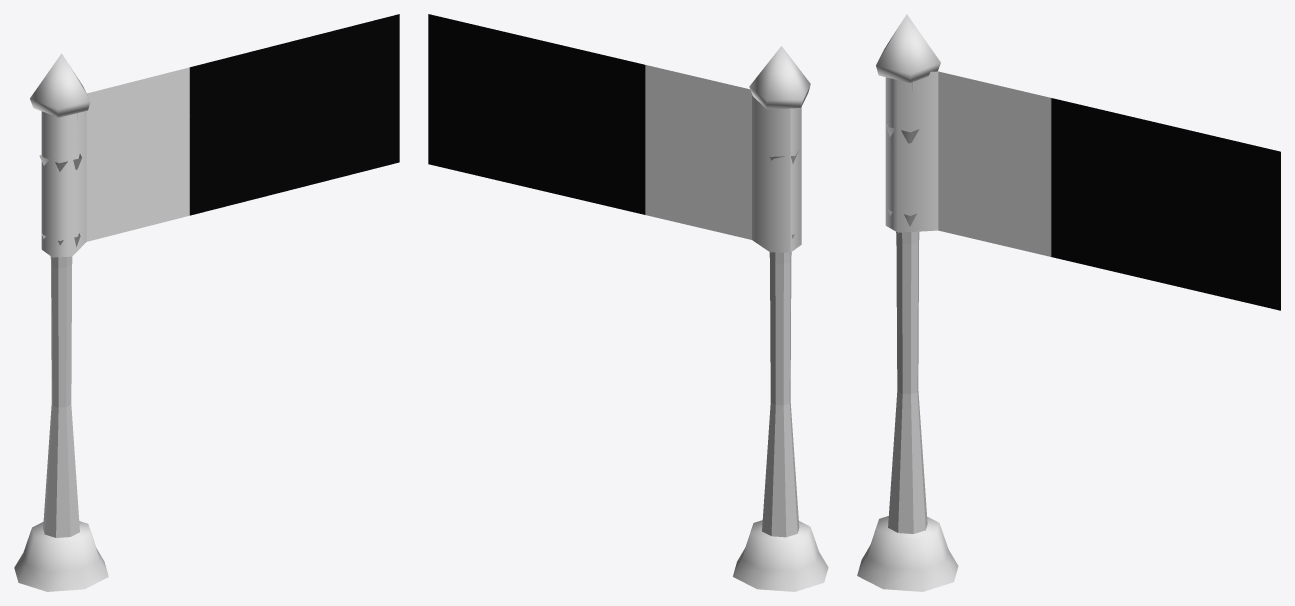
File: mesh_flag_red.fbx
3 renders of one model, left to right at view 1: azimuth 30°, elevation 25°; view 2: azimuth 150°, elevation 25°; view 3: azimuth 330°, elevation 25°, orthographic. The views are drawn at different scales.
Visible parts, largest first — view 1: mesh_flag_red; view 2: mesh_flag_red; view 3: mesh_flag_red.
Boxes of the visible parts, x1=… form: mesh_flag_red: x1=14, y1=14, x2=399, y2=591; mesh_flag_red: x1=428, y1=14, x2=828, y2=591; mesh_flag_red: x1=857, y1=14, x2=1280, y2=591.
Bounding box in the file's own units: 96.37 × 20.06 × 124.
